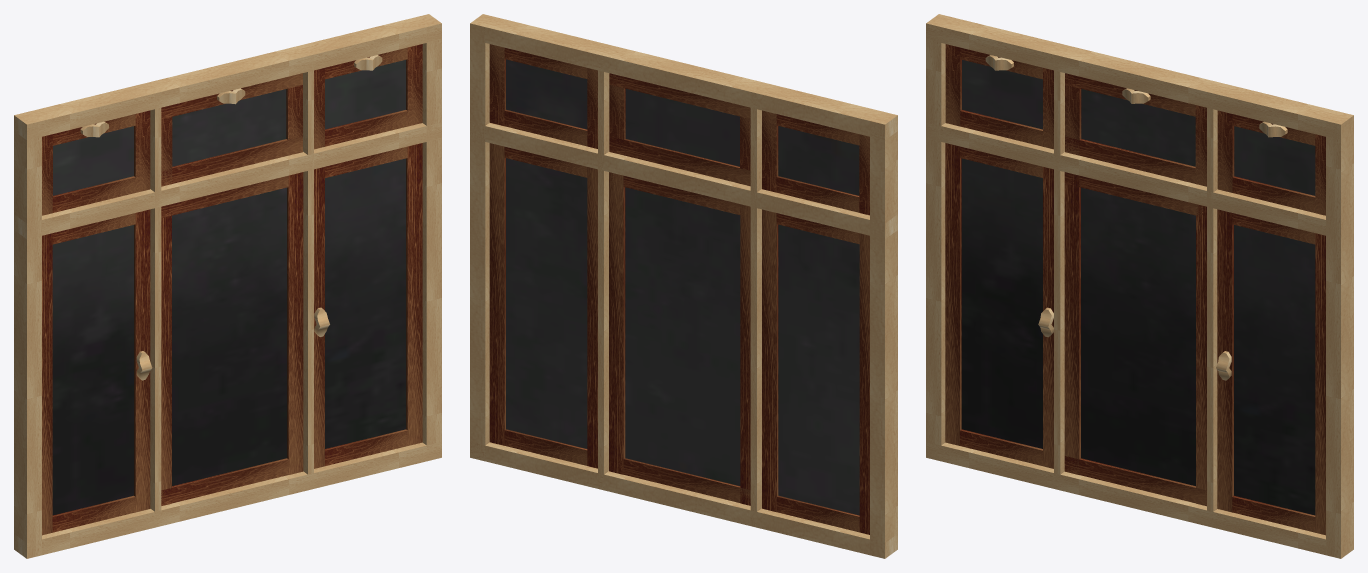
The model's file is wooden window.fbx.
3 renders of one model, left to right at view 1: azimuth 30°, elevation 25°; view 2: azimuth 150°, elevation 25°; view 3: azimuth 330°, elevation 25°, orthographic.
Visible parts, largest first — view 1: polySurface3, Glass; view 2: polySurface3, Glass; view 3: polySurface3, Glass.
Boxes of the visible parts, x1,y1,x2,y2 form: polySurface3: [14, 14, 441, 558]; Glass: [52, 60, 405, 515]; polySurface3: [470, 14, 897, 558]; Glass: [506, 59, 859, 515]; polySurface3: [926, 14, 1353, 558]; Glass: [961, 60, 1315, 515].
Bounding box in the file's own units: 10.73 × 10.73 × 0.6513.
4 materials, 3 textured.
